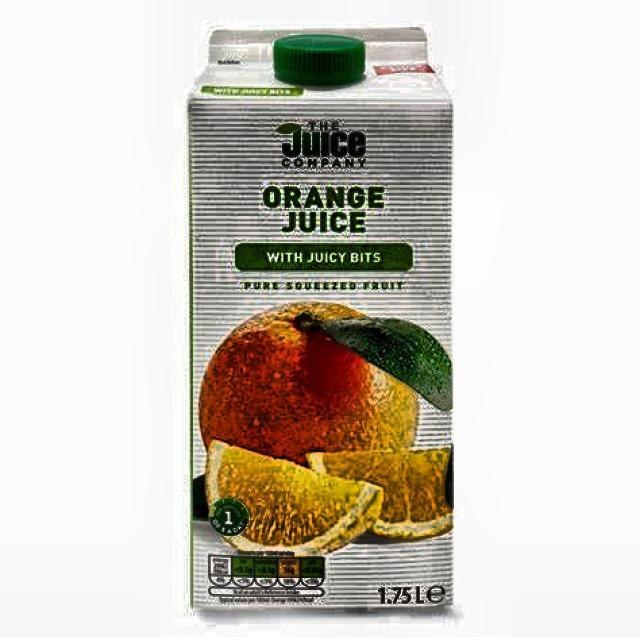cardboard: (186, 26, 454, 610)
